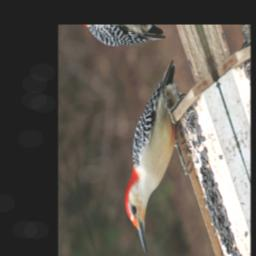Woodpecker: (96, 56, 220, 256)
